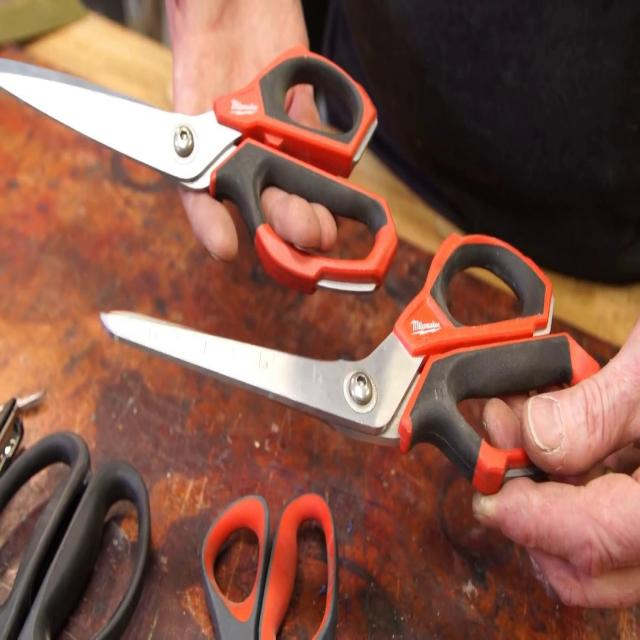scissor: (100, 230, 601, 497), (0, 47, 396, 295), (0, 431, 150, 640), (199, 496, 338, 640)
